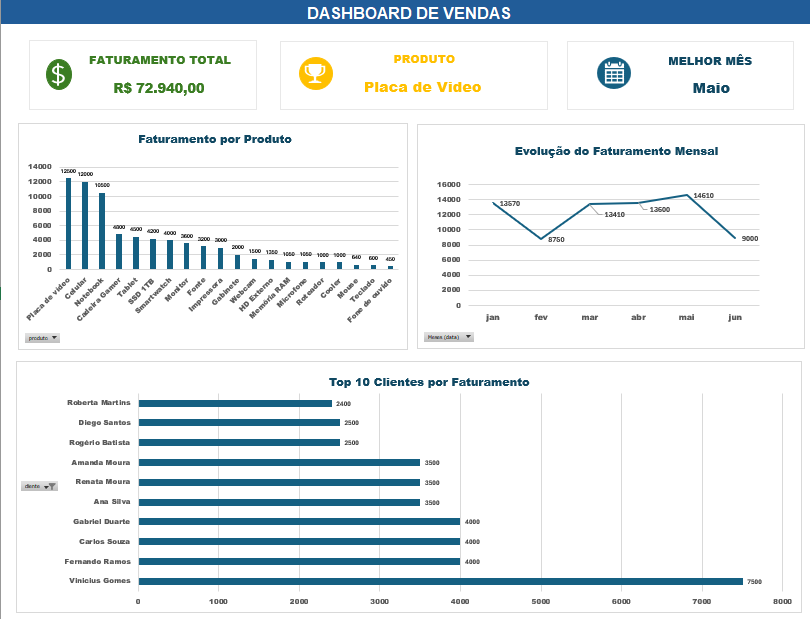

The dashboard page shown, as its layout file describes it:
{"tool":"powerbi","page":{"name":"Página 1","canvas":[1280,720],"ordinal":0},"visuals":[{"type":"cardVisual","title":"FATURAMENTO TOTAL","fields":{"Data":["Sum(vendas_loja.valor_total)"]},"box":[66.1,70.3,334.8,119.6],"z":0},{"type":"columnChart","title":"Faturamento por Produto","fields":{"Category":["vendas_loja.produto"],"Y":["Sum(vendas_loja.valor_total)"]},"box":[9.8,208.2,645.6,244.7],"z":1000},{"type":"barChart","title":"Top Clientes por Faturamento","fields":{"Category":["vendas_loja.cliente"],"Y":["Sum(vendas_loja.valor_total)"]},"box":[682.2,208.2,582.3,244.7],"z":2000},{"type":"lineChart","title":"Evolução do Faturamento Mensal","fields":{"Category":["vendas_loja.data.Variation.Hierarquia de datas.Mês"],"Y":["Sum(vendas_loja.valor_total)"]},"box":[9.8,467,1254.7,253.2],"z":3000},{"type":"shape","box":[0,0,1280,50.6],"z":4000},{"type":"cardVisual","title":"PRODUTO DESTAQUE","fields":{"Data":["vendas_loja.Produto Destaque"]},"box":[472.6,70.3,334.8,119.6],"z":5000},{"type":"cardVisual","title":"MELHOR MÊS","fields":{"Data":["vendas_loja.Melhor Mês"]},"box":[876.3,70.3,334.8,119.6],"z":6000},{"type":"image","box":[78.8,105.5,42.2,49.2],"z":7000},{"type":"image","box":[485.3,61.9,42.2,136.4],"z":8000},{"type":"image","box":[914.3,84.4,50.6,91.4],"z":9000},{"type":"image","box":[222.2,2.8,60.5,45],"z":9001}]}

Visuals, with their boxes on the page's 1280x720 design canvas (x1, y1, x2, y2). These are canvas units, not pixel positions in the 810x619 screenshot, which may show the page scaled, cropped or inside an application window:
"FATURAMENTO TOTAL" cardVisual: (x1=66, y1=70, x2=401, y2=190)
"Faturamento por Produto" columnChart: (x1=10, y1=208, x2=655, y2=453)
"Top Clientes por Faturamento" barChart: (x1=682, y1=208, x2=1264, y2=453)
"Evolução do Faturamento Mensal" lineChart: (x1=10, y1=467, x2=1264, y2=720)
shape: (x1=0, y1=0, x2=1280, y2=51)
"PRODUTO DESTAQUE" cardVisual: (x1=473, y1=70, x2=807, y2=190)
"MELHOR MÊS" cardVisual: (x1=876, y1=70, x2=1211, y2=190)
image: (x1=79, y1=106, x2=121, y2=155)
image: (x1=485, y1=62, x2=528, y2=198)
image: (x1=914, y1=84, x2=965, y2=176)
image: (x1=222, y1=3, x2=283, y2=48)
